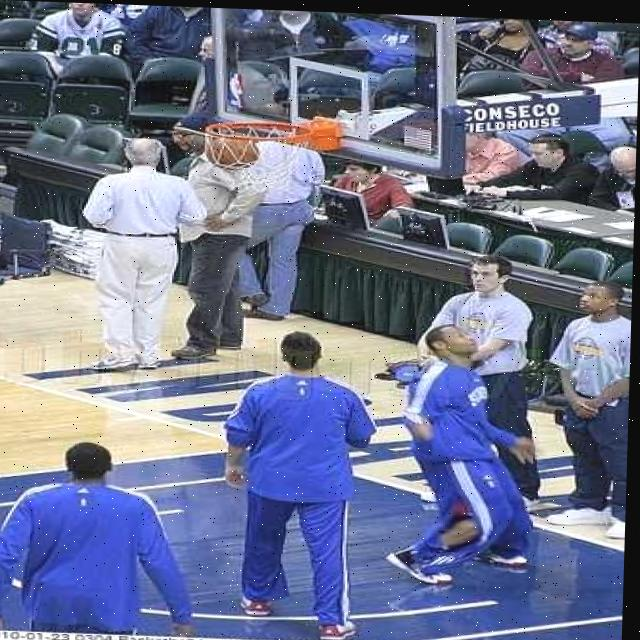basketball: (206, 134, 263, 172)
hoop: (201, 118, 317, 200), (201, 118, 315, 199)
